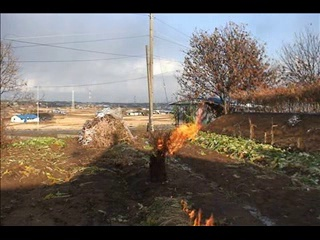fire: (155, 108, 206, 158), (179, 196, 215, 226)
